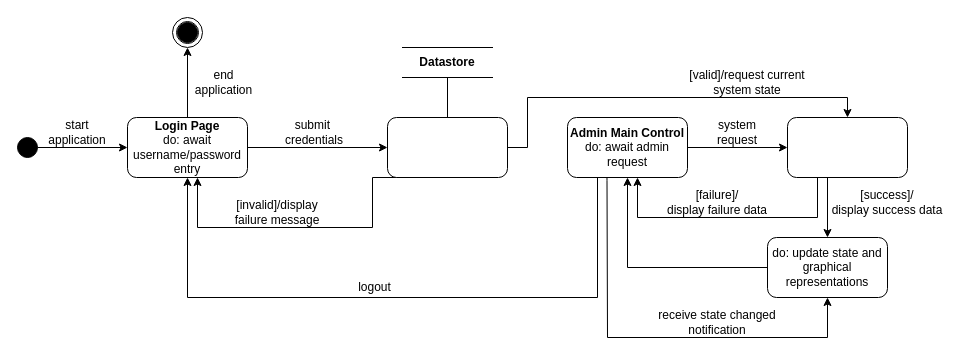
Image size: 975x363. Some labels were removed from this diagram. The centre of each missing label's shape, as x and y in pixels:
PMS Processing do: receive, process request: the point at 847,147
User Verification do: verify password: the point at 447,147
